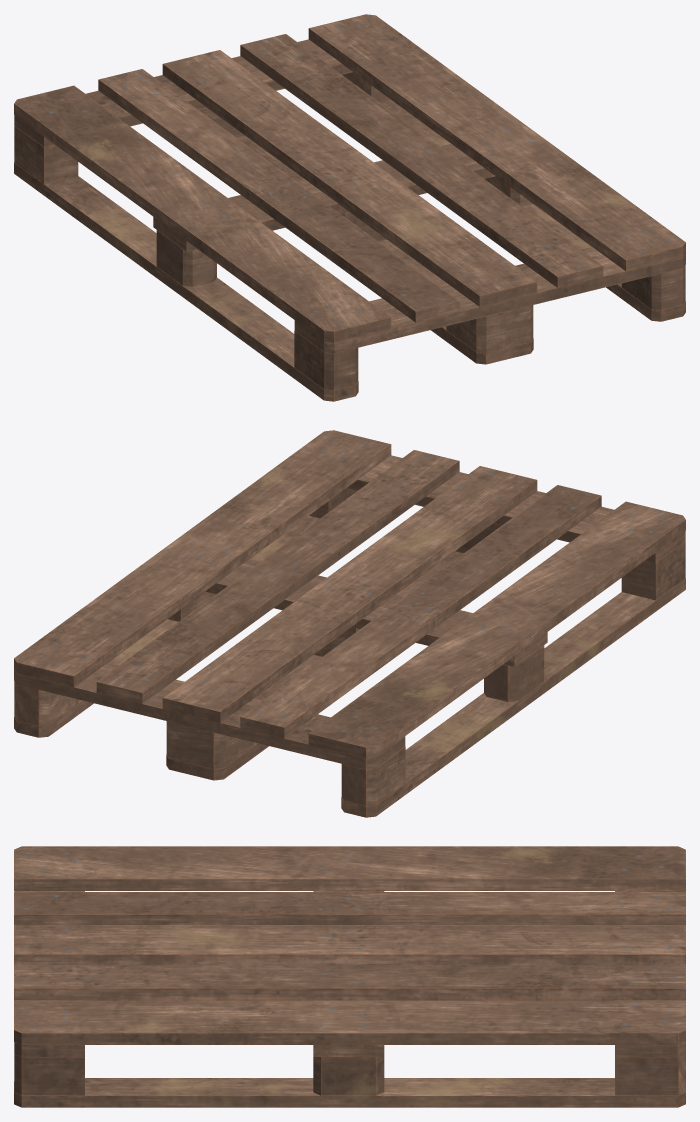
The picture shows the model from 3 angles, top to bottom: view 1: azimuth 30°, elevation 25°; view 2: azimuth 150°, elevation 25°; view 3: azimuth 270°, elevation 25°; orthographic projection. The views are drawn at different scales.
Parts seen in each view (by area): view 1: palette; view 2: palette; view 3: palette.
Boxes of the visible parts, box(x1,y1,x2,y2) form: palette: box(14, 14, 685, 401); palette: box(14, 430, 685, 817); palette: box(14, 846, 685, 1107).
Size of the model in its own units: 40.36 by 7.46 by 61.25.
Materials: 1 (1 with a texture image).
